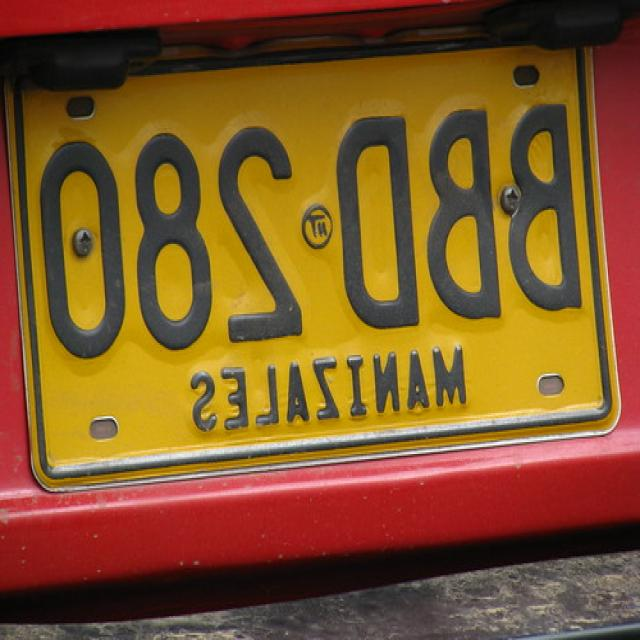placas: (16, 54, 593, 366)
